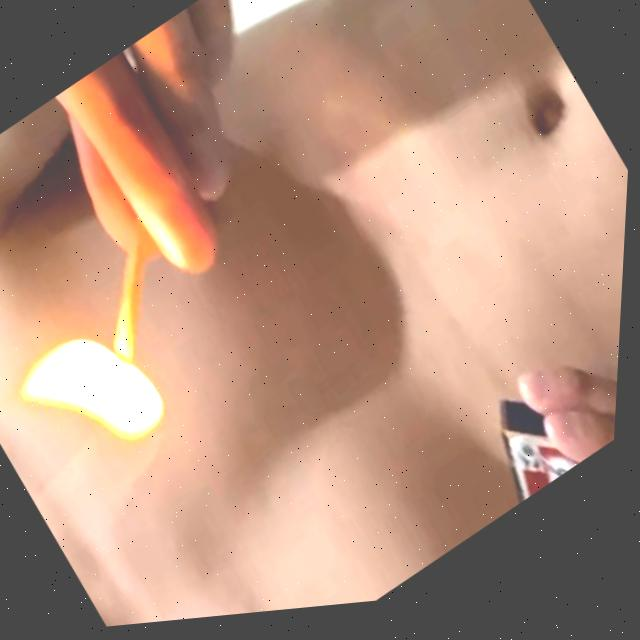Fire: (0, 295, 203, 517)
